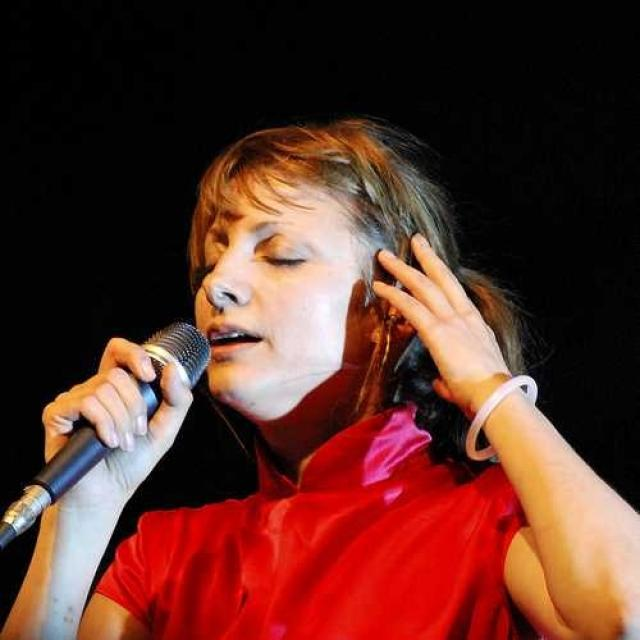microphone: (1, 321, 210, 563)
